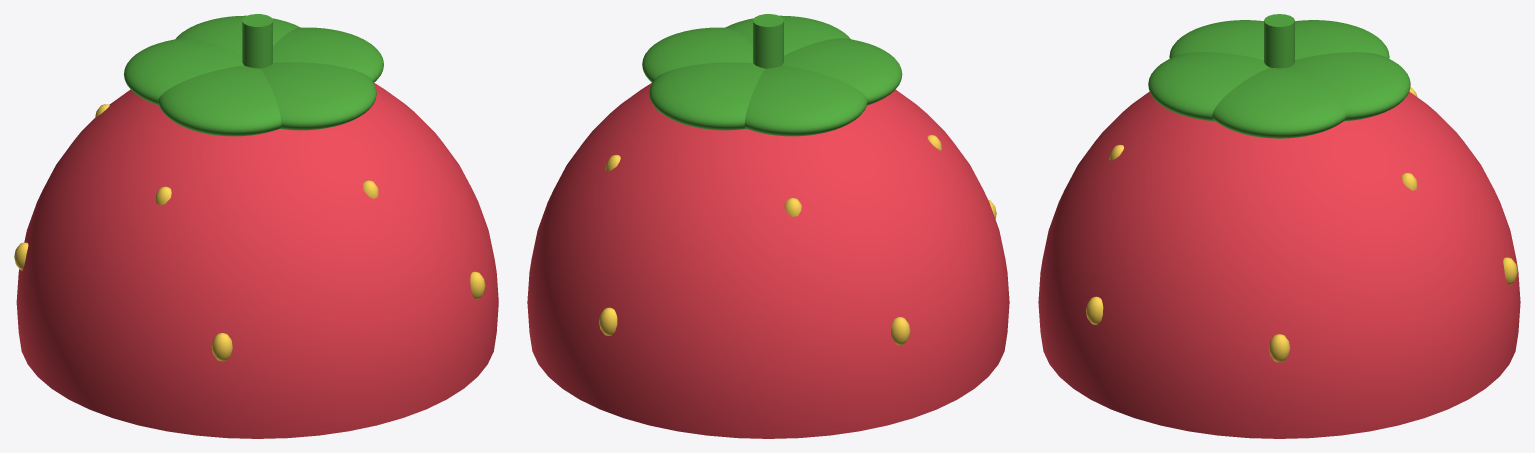
File: strawberry_hat.fbx
3 renders of one model, left to right at view 1: azimuth 30°, elevation 25°; view 2: azimuth 150°, elevation 25°; view 3: azimuth 270°, elevation 25°, orthographic.
Visible parts, largest first — view 1: Sphere012, Sphere030, Sphere031, Sphere029, Sphere027, Sphere028, Cylinder007, Sphere022; view 2: Sphere012, Sphere029, Sphere028, Sphere030, Sphere027, Sphere031, Cylinder007; view 3: Sphere012, Sphere027, Sphere028, Sphere031, Sphere029, Sphere030, Cylinder007, Sphere013.
Part boxes in pixels (x1,y1,x2,y2): Sphere012: [16, 83, 498, 438]; Sphere030: [158, 65, 281, 136]; Sphere031: [261, 62, 376, 130]; Sphere029: [124, 38, 243, 105]; Sphere027: [273, 27, 383, 82]; Sphere028: [175, 15, 300, 55]; Cylinder007: [242, 14, 272, 68]; Sphere022: [211, 333, 232, 361]; Sphere012: [527, 83, 1009, 438]; Sphere029: [744, 65, 867, 136]; Sphere028: [649, 62, 764, 130]; Sphere030: [782, 38, 902, 105]; Sphere027: [642, 27, 753, 82]; Sphere031: [725, 15, 850, 55]; Cylinder007: [753, 14, 783, 68]; Sphere012: [1038, 91, 1520, 438]; Sphere027: [1212, 67, 1346, 138]; Sphere028: [1289, 52, 1410, 121]; Sphere031: [1148, 52, 1269, 121]; Sphere029: [1295, 20, 1389, 59]; Sphere030: [1169, 20, 1263, 59]; Cylinder007: [1264, 14, 1294, 68]; Sphere013: [1268, 334, 1290, 362].
Size of the model in its own units: 12.48 by 9.02 by 12.4.
